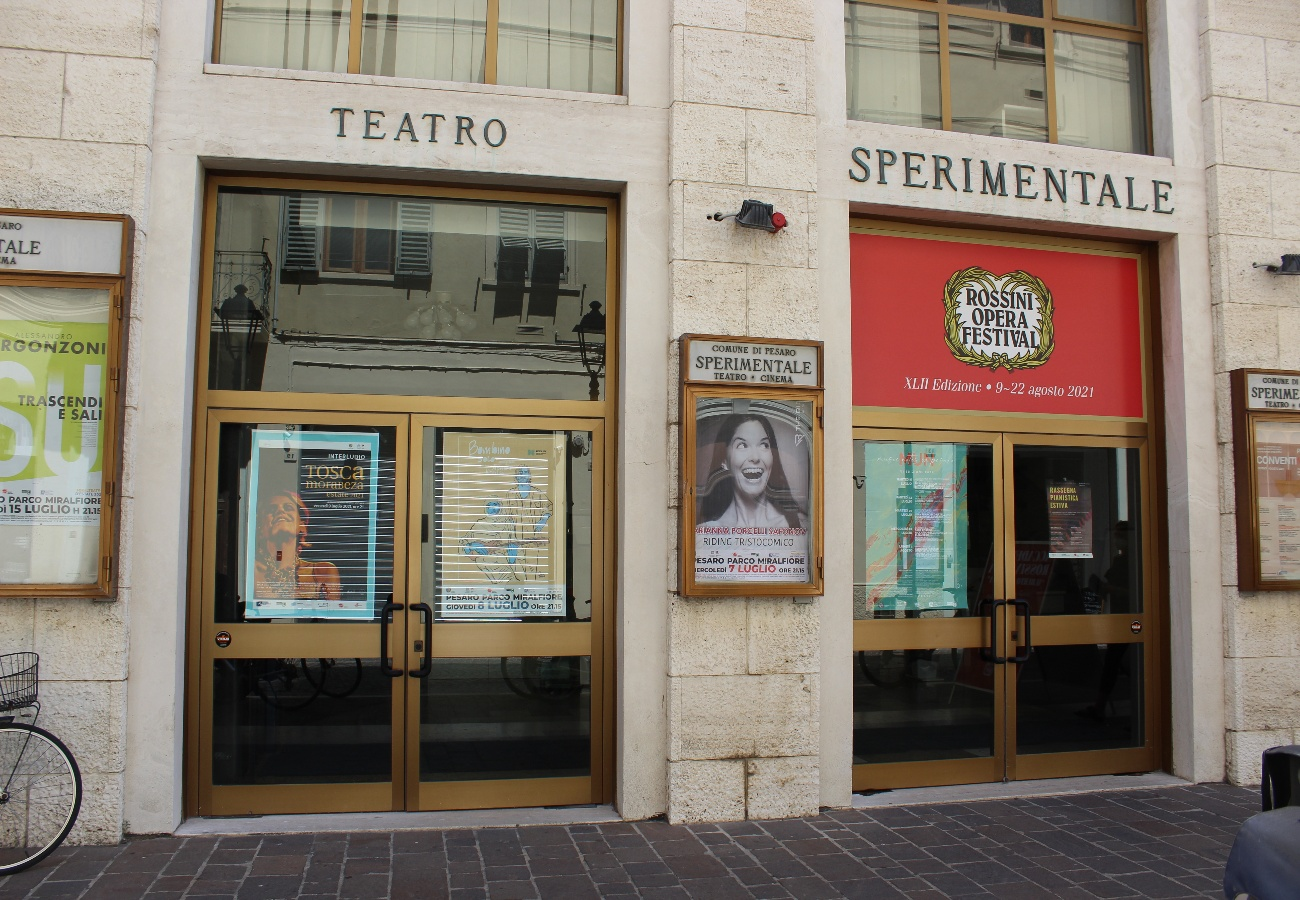Teatro Sperimentale: (140, 1, 1300, 844)
